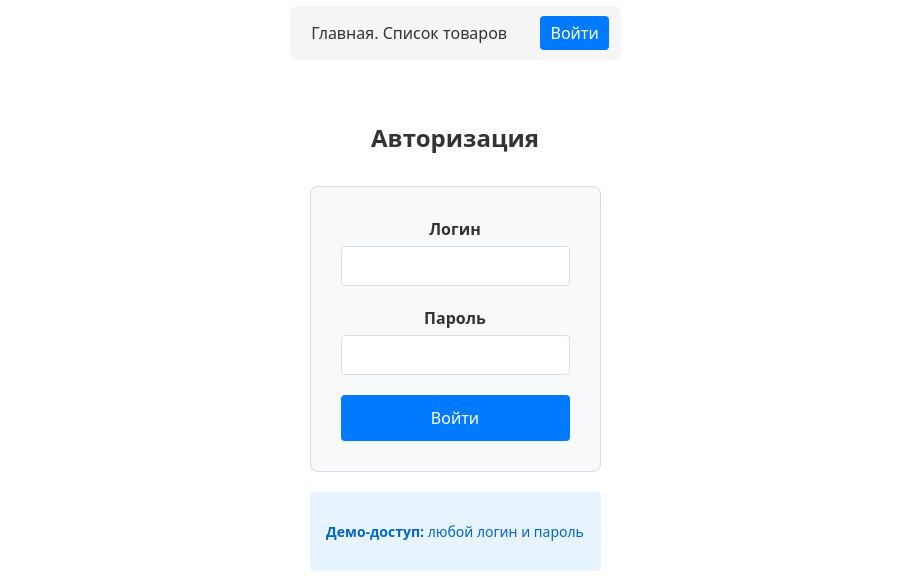
Test: Авторизация › должна обновлять header после авторизации
Type "john" into the field named "authLogin" at (456, 266), box [341,246,570,286]
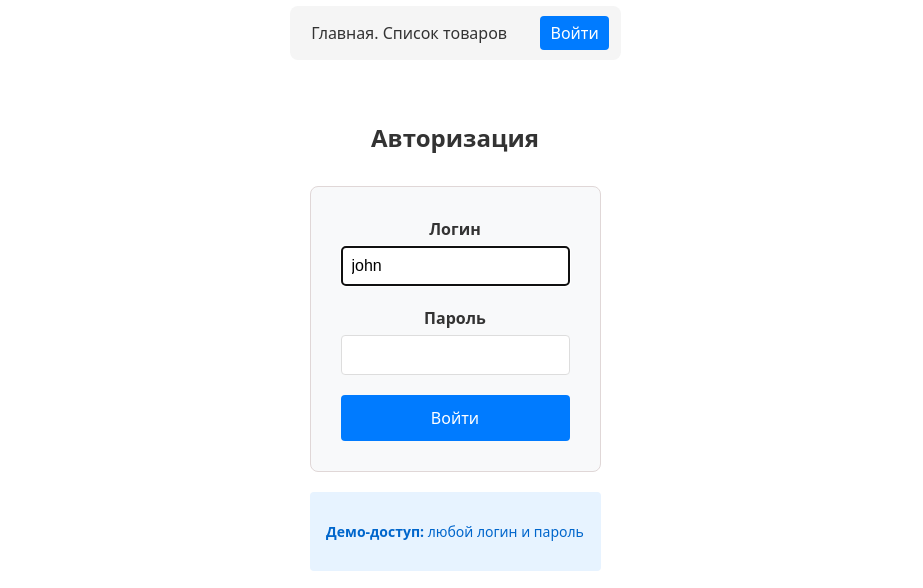
Type "doe123" into the password field named "authPassword" at (456, 355), box [341,335,570,375]
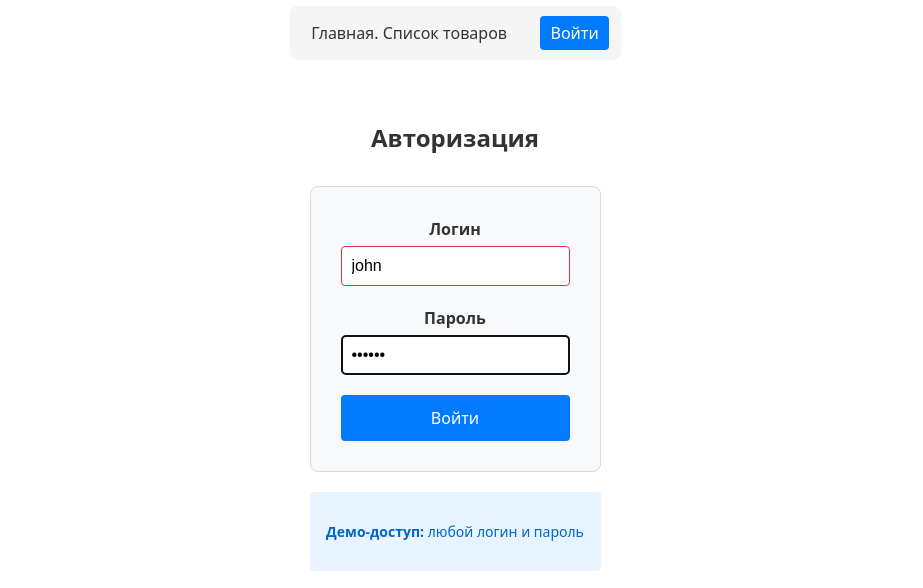
Click the submit button at (456, 418), box [341,395,570,441]
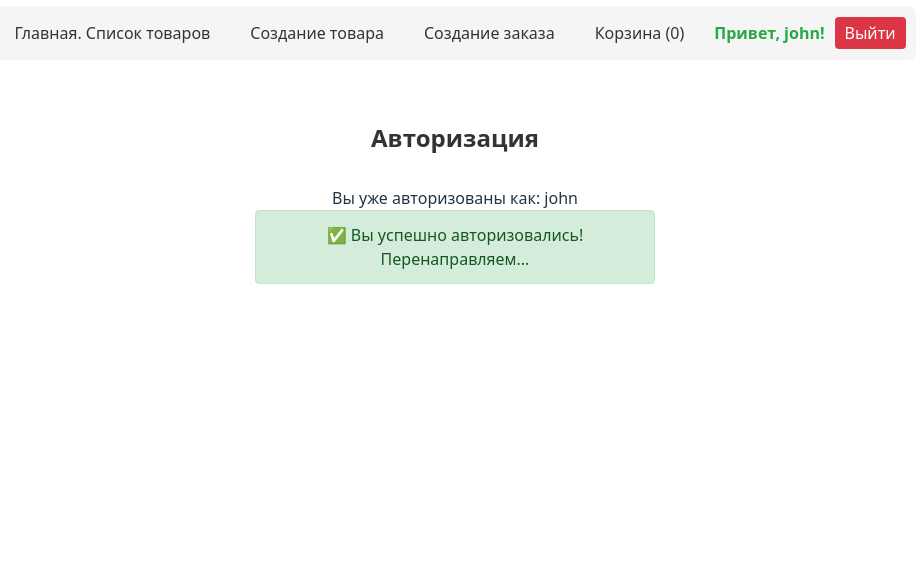
Now the text "Привет, john!" is shown, box [714,21,825,45]
Now the button "Выйти" is shown, box [834,17,906,49]
Now the link "Войти" is gone
